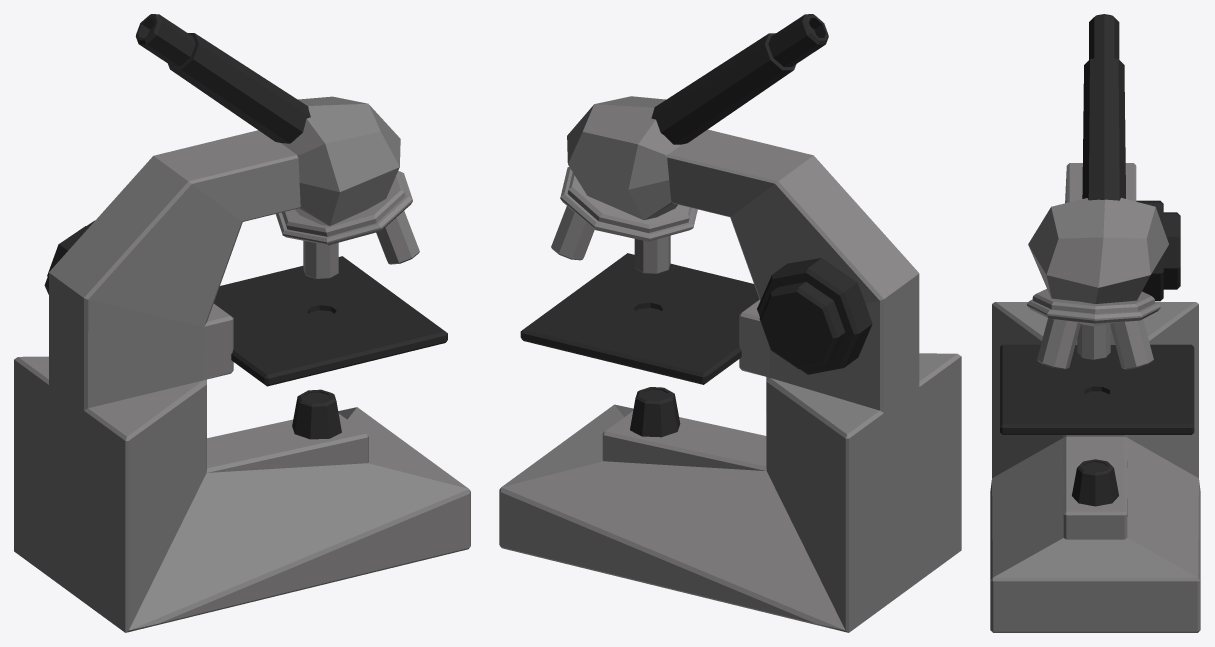
Rendered from SM_Microscope.fbx.
3 views of the same model, side by side, from view 1: azimuth 30°, elevation 25°; view 2: azimuth 150°, elevation 25°; view 3: azimuth 270°, elevation 25° (orthographic). The views are drawn at different scales.
Parts seen in each view (by area): view 1: Cube.024; view 2: Cube.024; view 3: Cube.024.
Part boxes in pixels (<box>): Cube.024: <box>14,14,470,632</box>; Cube.024: <box>499,14,961,632</box>; Cube.024: <box>990,14,1200,632</box>.
Bounding box in the file's own units: 28.8 × 50.19 × 76.55.
